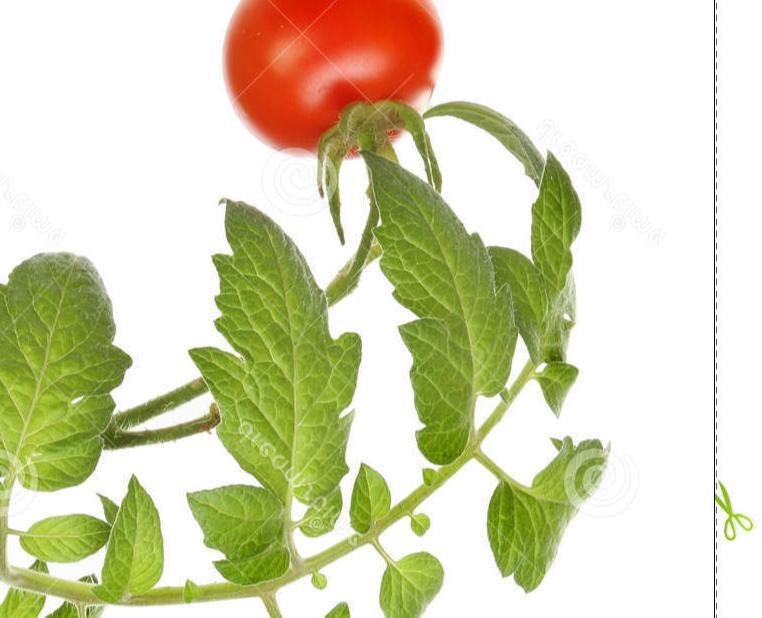Tomato leaf: (179, 182, 385, 616), (376, 85, 555, 525), (0, 203, 151, 524), (98, 469, 175, 616)
